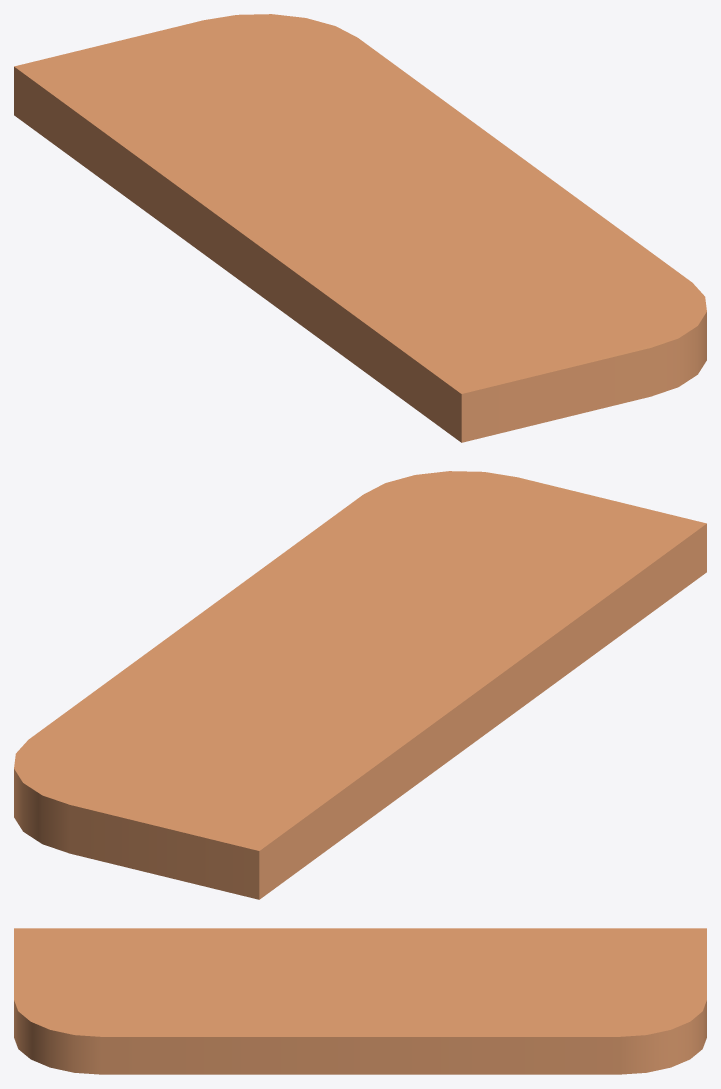
Rendered from shelf.fbx.
The picture shows the model from 3 angles, top to bottom: view 1: azimuth 30°, elevation 25°; view 2: azimuth 150°, elevation 25°; view 3: azimuth 270°, elevation 25°; orthographic projection. The views are drawn at different scales.
Visible parts, largest first — view 1: shelf; view 2: shelf; view 3: shelf.
Boxes of the visible parts, x1,y1,x2,y2 form: shelf: (14, 14, 706, 442); shelf: (14, 471, 706, 899); shelf: (14, 928, 706, 1074).
Size of the model in its own units: 184 by 29.89 by 497.
Materials: 1 (1 with a texture image).
